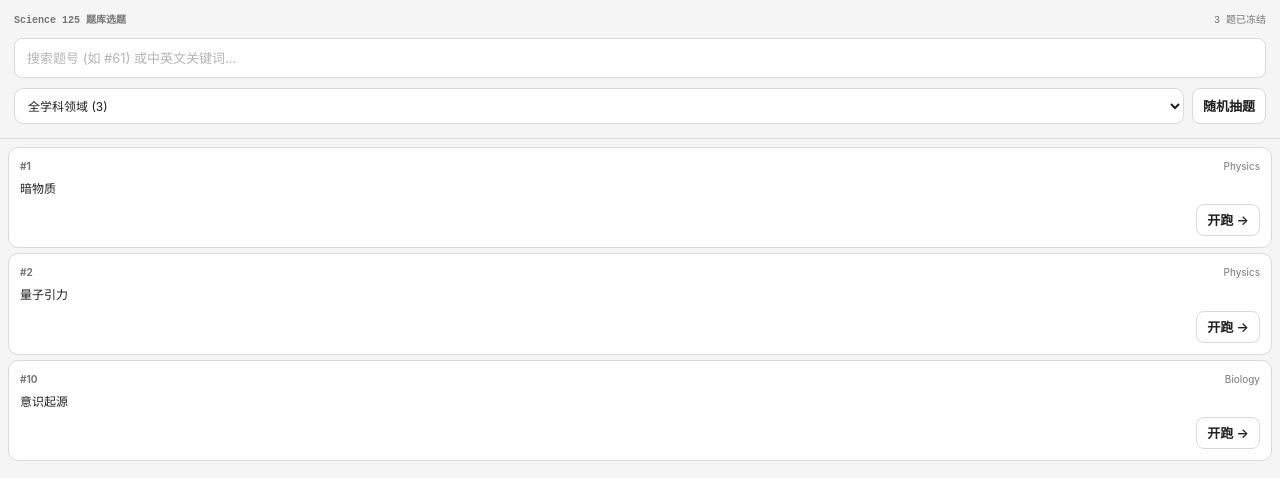
QuestionSidebar › 域筛选只显示对应题目
The image size is (1280, 478).
expect the element with test id "question-row-1" is shown: met, box [8, 147, 1272, 248]
Select "Biology (1)" in the dropdown with test id "domain-filter" at (599, 106), box [14, 88, 1184, 124]
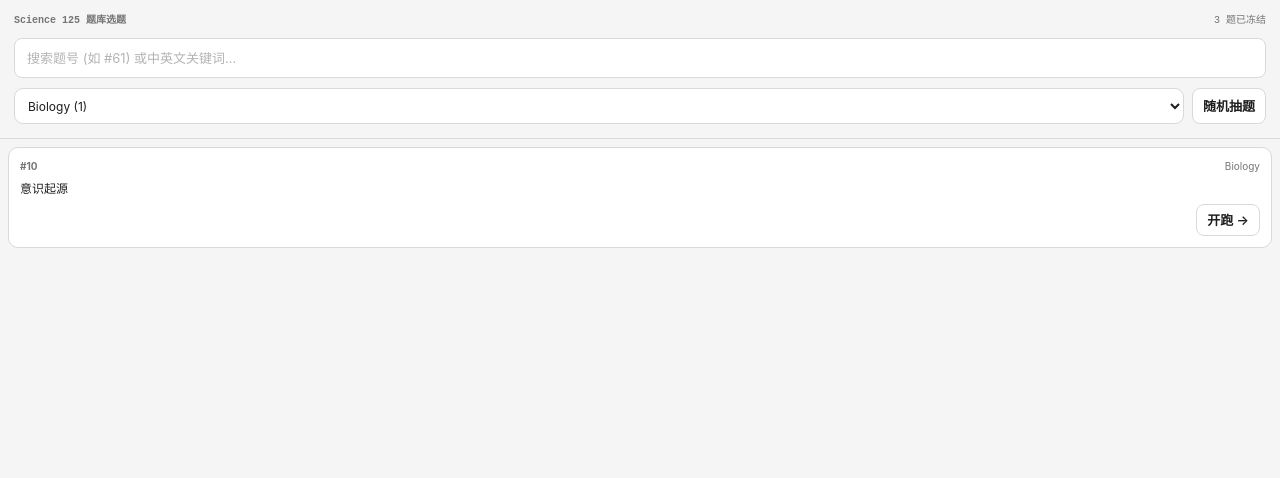
expect the element with test id "question-row-10" is shown: met, box [8, 147, 1272, 248]
expect the element with test id "question-row-1" is gone: met
